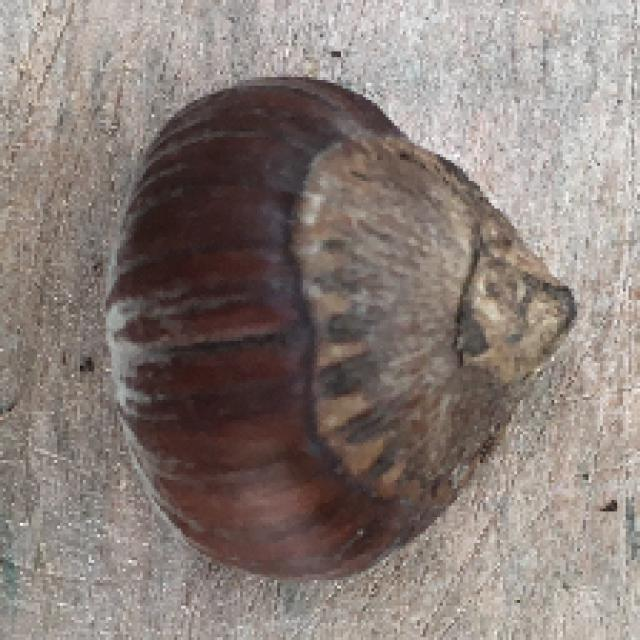damagedHazelnut: (105, 71, 572, 587)
